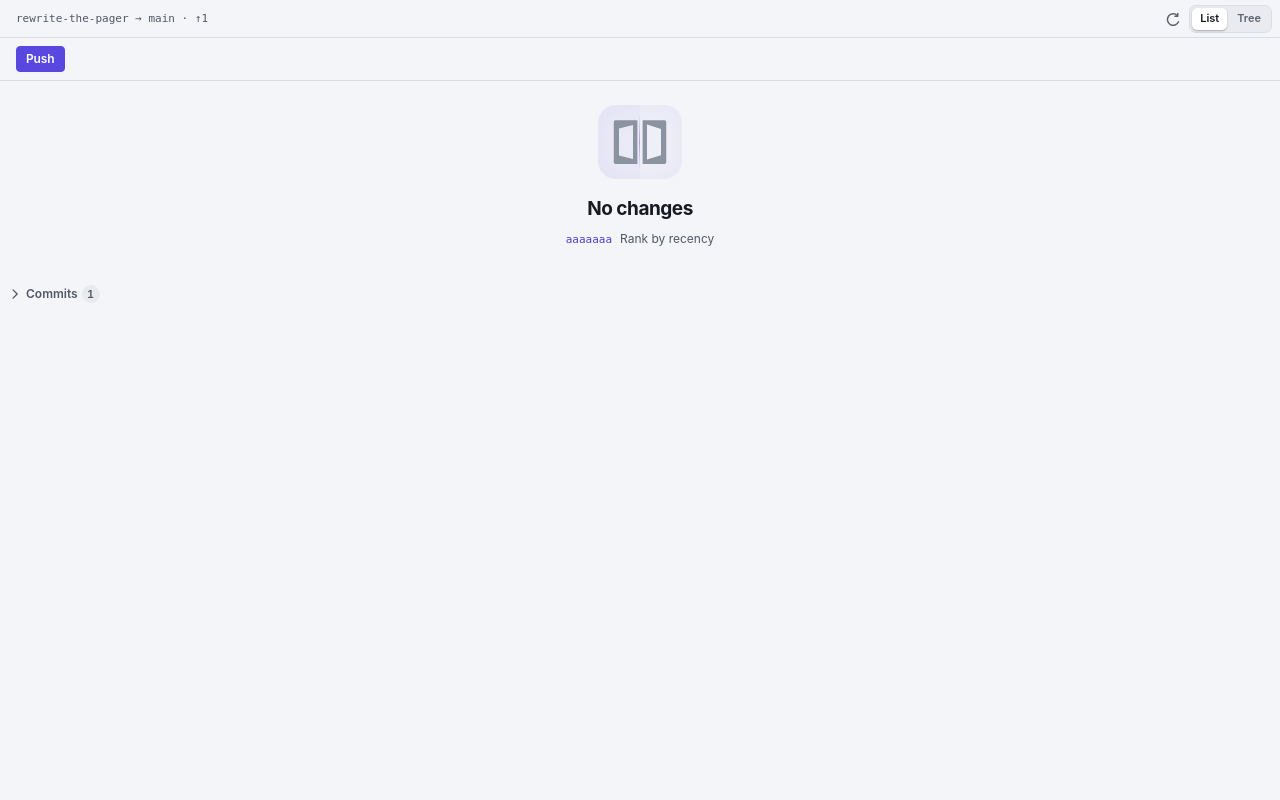
Test: pushing from the changes tab › says a failure git never explained in two words, the message behind Details
What coordinates should you click on to do the following:
click the button "Push"
I would click on:
 (40, 59)
Its box is [16,46,65,72].
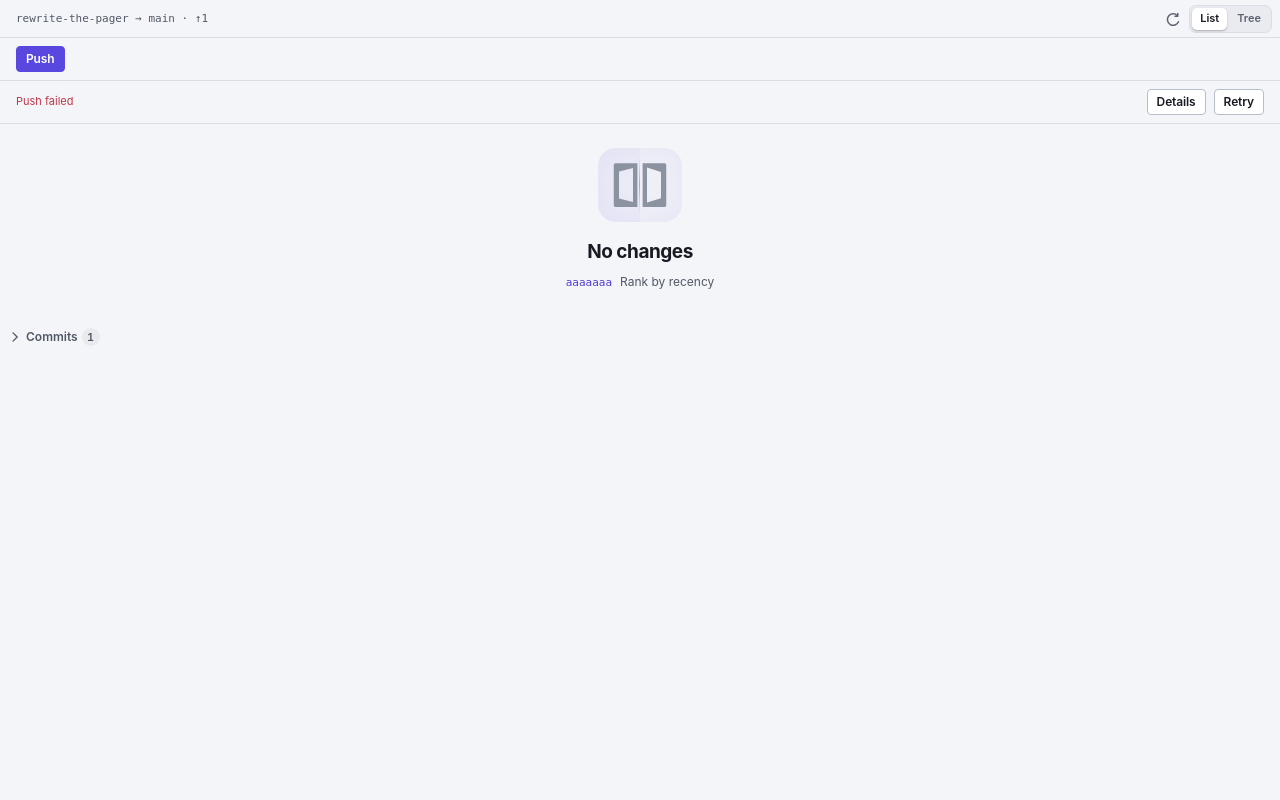
Result: the message reads "Push failed" at [16,94,74,108]
What coordinates should you click on to do the following:
click the button "Details"
I would click on:
 (1176, 102)
Its box is [1147,89,1206,115].
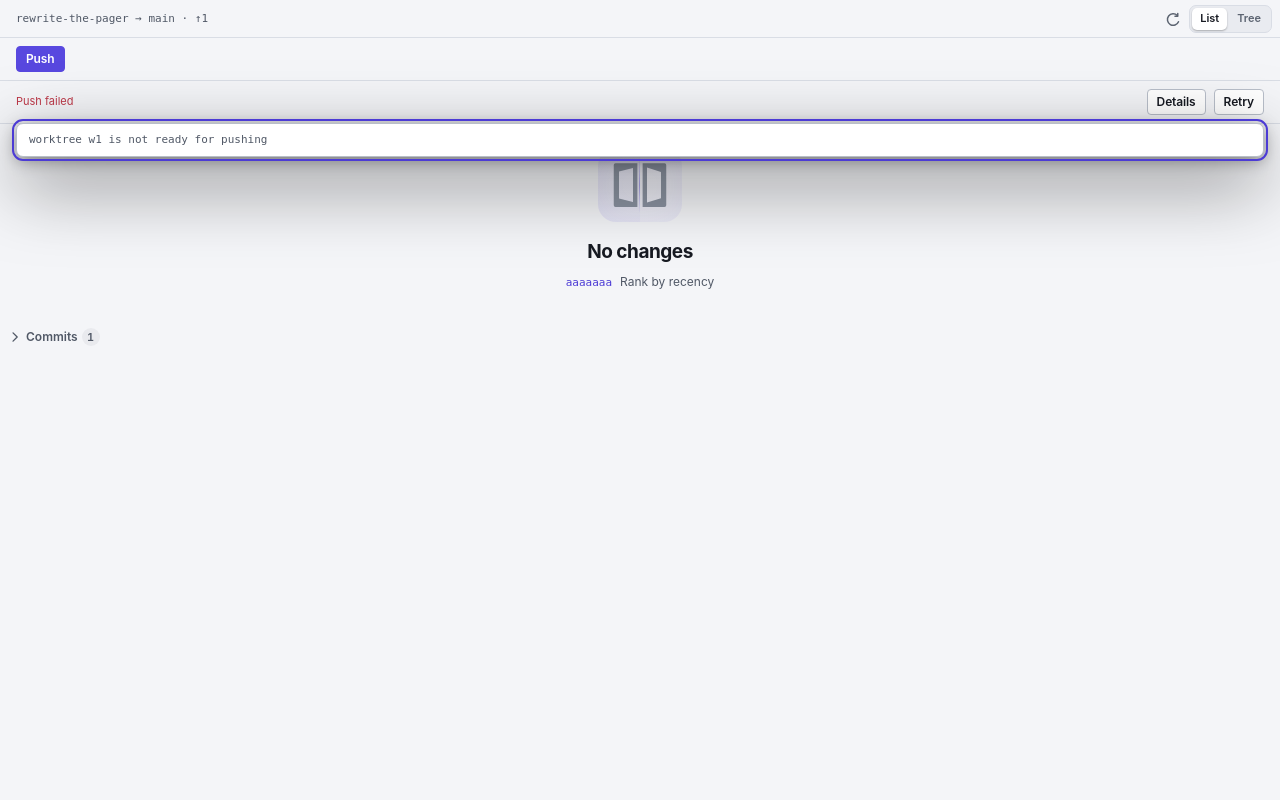
Result: the dialog named "git output" reads "worktree w1 is not ready for pushing" at [29,133,267,146]
